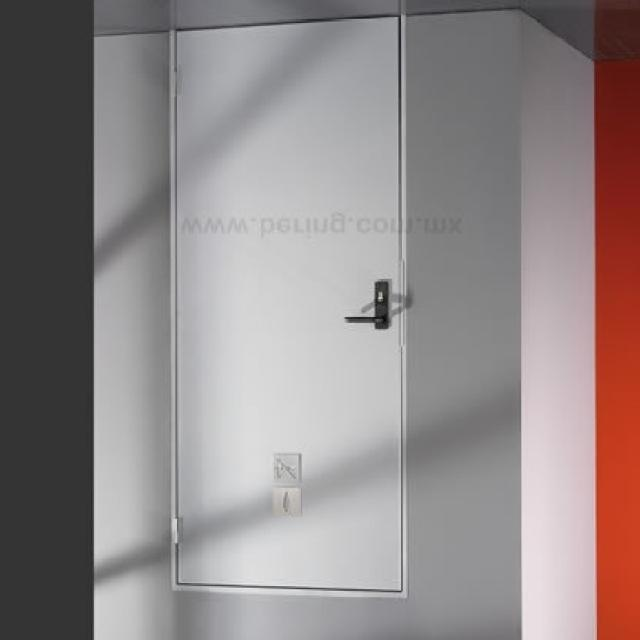door: (170, 15, 405, 598)
